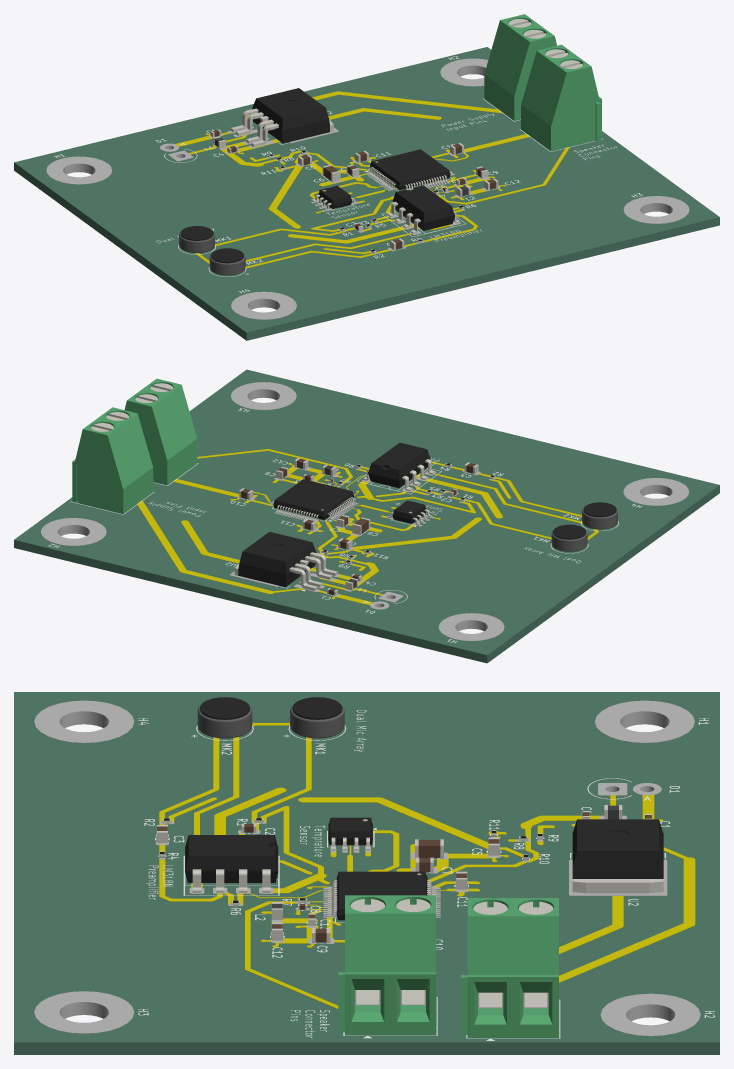
The model's file is mic_array.glb.
3 views of the same model, one above another, from view 1: azimuth 30°, elevation 25°; view 2: azimuth 150°, elevation 25°; view 3: azimuth 270°, elevation 25° (orthographic). The views are drawn at different scales.
Parts seen in each view (by area): view 1: =>[0:1:1:37], =>[0:1:1:14] (×2), =>[0:1:1:33], =>[0:1:1:34], =>[0:1:1:5], =>[0:1:1:32], =>[0:1:1:20], =>[0:1:1:36], =>[0:1:1:26] (×2), =>[0:1:1:22]; view 2: =>[0:1:1:37], =>[0:1:1:14] (×2), =>[0:1:1:33], =>[0:1:1:34], =>[0:1:1:5], =>[0:1:1:32], =>[0:1:1:20], =>[0:1:1:26] (×2), =>[0:1:1:36], =>[0:1:1:22]; view 3: =>[0:1:1:37], =>[0:1:1:14] (×2), =>[0:1:1:34], =>[0:1:1:33], =>[0:1:1:5], =>[0:1:1:20], =>[0:1:1:26] (×2), =>[0:1:1:36], =>[0:1:1:32], =>[0:1:1:22].
Part boxes in pixels (box(x1,y1,x2,y2)): =>[0:1:1:37]: box(14, 47, 719, 340); =>[0:1:1:14] (×2): box(484, 14, 601, 151); =>[0:1:1:33]: box(175, 91, 569, 268); =>[0:1:1:34]: box(46, 58, 689, 319); =>[0:1:1:5]: box(231, 88, 333, 147); =>[0:1:1:32]: box(367, 149, 452, 190); =>[0:1:1:20]: box(387, 185, 459, 233); =>[0:1:1:36]: box(54, 56, 642, 293); =>[0:1:1:26] (×2): box(179, 226, 245, 275); =>[0:1:1:22]: box(313, 185, 356, 210); =>[0:1:1:37]: box(14, 369, 719, 663); =>[0:1:1:14] (×2): box(72, 378, 197, 513); =>[0:1:1:33]: box(137, 449, 598, 605); =>[0:1:1:34]: box(41, 382, 689, 641); =>[0:1:1:5]: box(234, 531, 337, 590); =>[0:1:1:32]: box(271, 479, 356, 521); =>[0:1:1:20]: box(363, 442, 435, 491); =>[0:1:1:26] (×2): box(551, 502, 617, 551); =>[0:1:1:36]: box(48, 408, 642, 643); =>[0:1:1:22]: box(387, 500, 431, 525); =>[0:1:1:37]: box(14, 692, 719, 1054); =>[0:1:1:14] (×2): box(338, 895, 558, 1037); =>[0:1:1:34]: box(34, 700, 700, 1036); =>[0:1:1:33]: box(159, 723, 695, 1008); =>[0:1:1:5]: box(572, 819, 663, 893); =>[0:1:1:20]: box(185, 835, 278, 892); =>[0:1:1:26] (×2): box(197, 697, 344, 738); =>[0:1:1:36]: box(138, 710, 714, 1040); =>[0:1:1:32]: box(327, 871, 436, 920); =>[0:1:1:22]: box(328, 817, 372, 850).
Size of the model in its own units: 0.0911 by 0.0173 by 0.0776.
